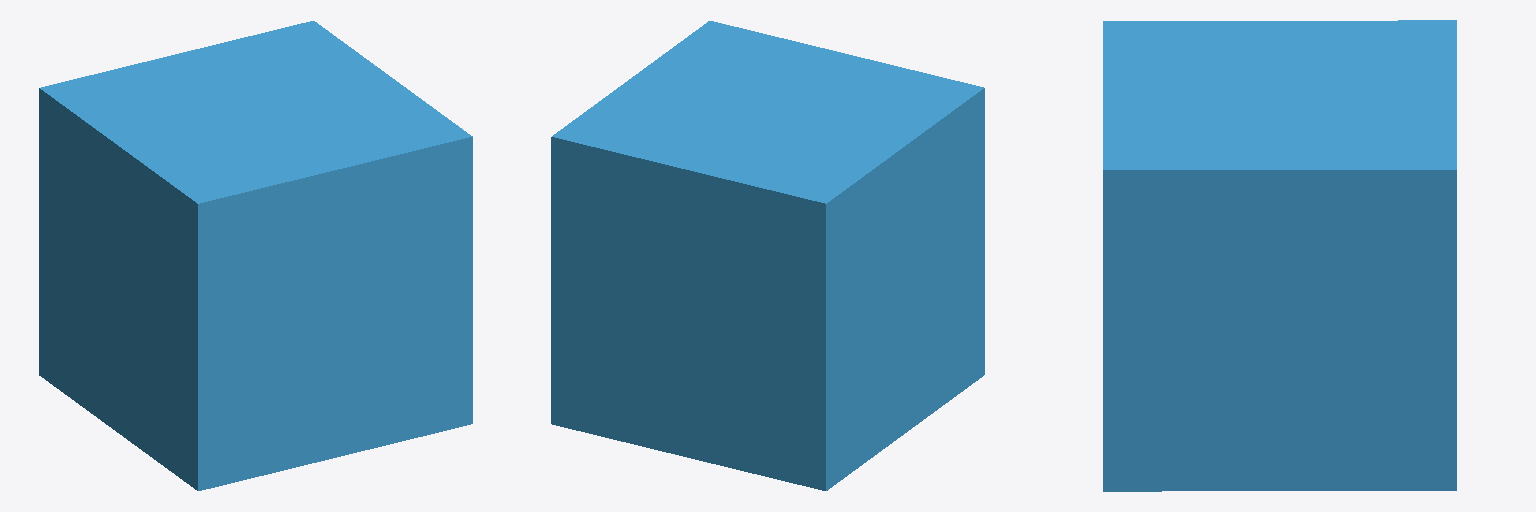
robot.urdf — iris_drone:
<robot name="iris_drone">
  <link name="base_link">
    <visual>
      <geometry>
        <mesh filename="package://mavlink_sitl_gazebo/models/iris/meshes/iris.stl" scale="1.5 1.5 1.5"/>
      </geometry>
      <material name="light_grey">
        <color rgba="0.7 0.7 0.7 1.0"/>
      </material>
    </visual>
  </link>

  <link name="iris/camera_link">
    <visual>
      <geometry>
        <box size="0.05 0.05 0.05"/>
      </geometry>
    </visual>
  </link>

  <joint name="base_link_to_camera_link" type="fixed">
    <parent link="base_link"/>
    <child link="iris/camera_link"/>
    <!-- Values from mavros_depth.launch: args="0.1 0 0.0 -1.57 0 -1.57 base_link iris/camera_link 33" -->
    <origin xyz="0.1 0 0.0" rpy="-1.57 0 -1.57"/>
  </joint>
</robot>

--- Facts derived from the render (not from the file) ---
Views: 3 orthographic renders of the robot side by side, from view 1: azimuth 30°, elevation 25°; view 2: azimuth 150°, elevation 25°; view 3: azimuth 270°, elevation 25°.
Robot: iris_drone — 2 links, 1 joints (1 fixed); root link base_link; default pose: every joint at zero.
Links seen in each view (by area): view 1: iris/camera_link; view 2: iris/camera_link; view 3: iris/camera_link.
Boxes of the visible links, <box> form: iris/camera_link: <box>39,21,472,490</box>; iris/camera_link: <box>551,21,984,490</box>; iris/camera_link: <box>1103,20,1456,491</box>.
Size in the robot's own frame: 0.0501 by 0.05 by 0.05 metres.
Meshes: 1 distinct files referenced, 0 mesh visuals loaded (none loaded); not drawn: 1 (reference not matched to a file when rendering).